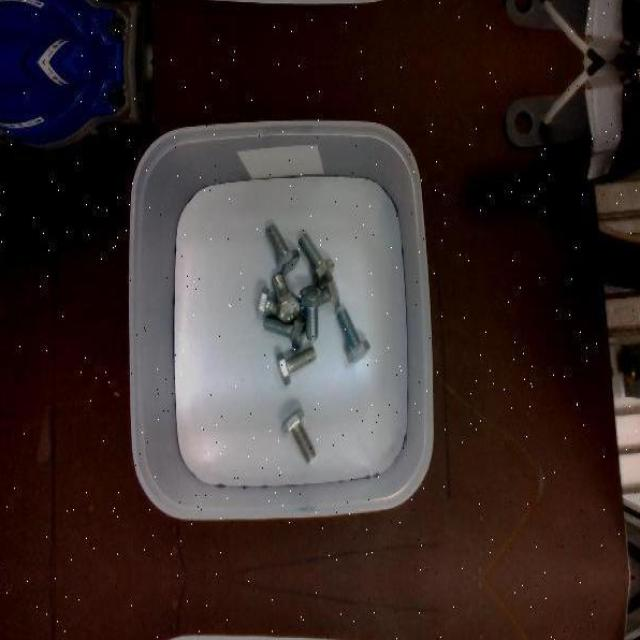screw: (337, 307, 372, 363), (281, 407, 316, 461), (300, 233, 335, 285), (264, 222, 300, 272), (276, 346, 318, 386), (272, 272, 300, 322), (301, 286, 322, 342)
